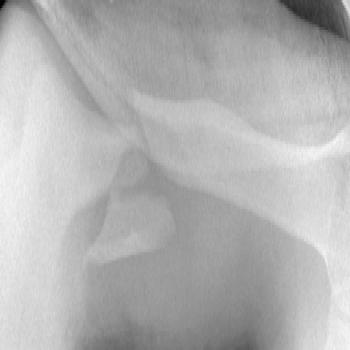Fracture: (87, 62, 178, 286)
